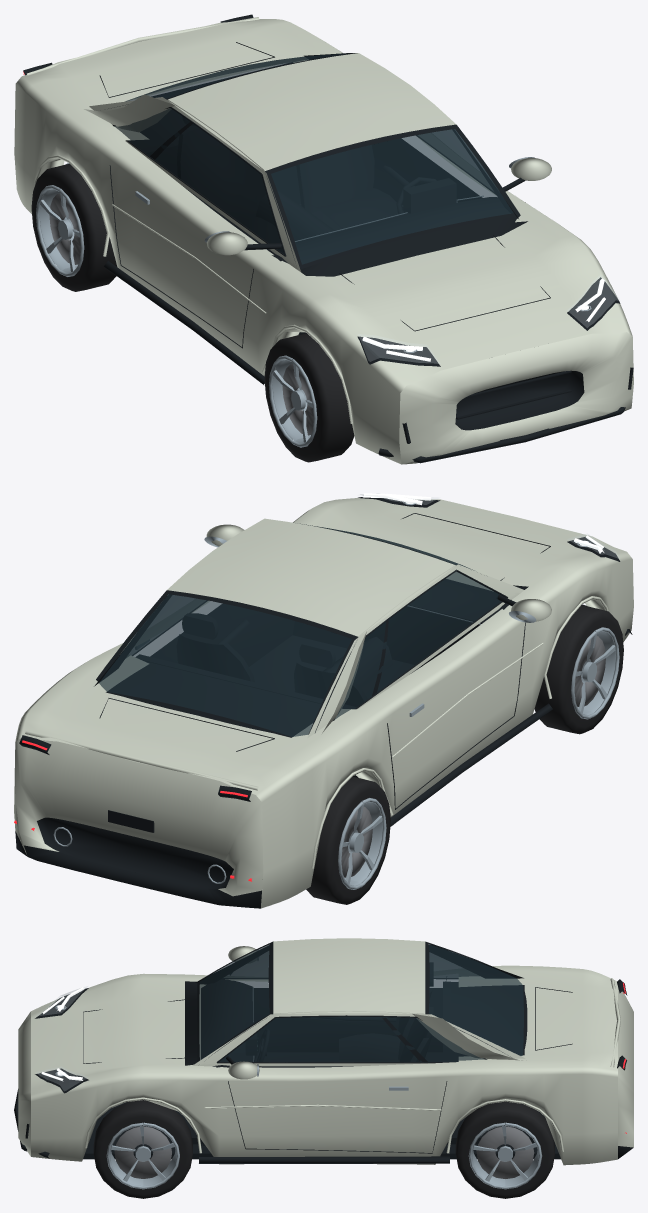
Rendered from aeris-lod1.glb.
3 renders of one model, top to bottom at view 1: azimuth 30°, elevation 25°; view 2: azimuth 150°, elevation 25°; view 3: azimuth 270°, elevation 25°, orthographic. The views are drawn at different scales.
Visible parts, largest first — view 1: sculpted-coachwork_merged, carbon-rear-valance_merged, panoramic-windscreen_merged, profiled-tire (×2), rim-barrel_merged (×2), headlamp-clear-lens_merged, ventilated-brake-rotor (×2), headlamp-projector-optic_merged; view 2: sculpted-coachwork_merged, carbon-rear-valance_merged, panoramic-windscreen_merged, profiled-tire (×2), rim-barrel_merged (×2), ventilated-brake-rotor (×2), door-release_merged, headlamp-projector-optic_merged; view 3: sculpted-coachwork_merged, carbon-rear-valance_merged, panoramic-windscreen_merged, profiled-tire (×2), ventilated-brake-rotor (×2), rim-barrel_merged (×2), headlamp-clear-lens_merged, headlamp-projector-optic_merged.
Part boxes in pixels (x1,y1,x2,y2): sculpted-coachwork_merged: [14, 17, 633, 464]; carbon-rear-valance_merged: [23, 14, 633, 463]; panoramic-windscreen_merged: [114, 53, 512, 264]; profiled-tire (×2): [31, 163, 354, 462]; rim-barrel_merged (×2): [36, 185, 317, 447]; headlamp-clear-lens_merged: [358, 275, 619, 363]; ventilated-brake-rotor (×2): [49, 193, 313, 435]; headlamp-projector-optic_merged: [362, 278, 605, 361]; sculpted-coachwork_merged: [14, 498, 633, 908]; carbon-rear-valance_merged: [15, 497, 632, 908]; panoramic-windscreen_merged: [99, 524, 501, 736]; profiled-tire (×2): [306, 605, 623, 904]; rim-barrel_merged (×2): [338, 627, 619, 889]; ventilated-brake-rotor (×2): [341, 636, 605, 877]; door-release_merged: [53, 499, 591, 883]; headlamp-projector-optic_merged: [363, 493, 604, 553]; sculpted-coachwork_merged: [18, 938, 633, 1165]; carbon-rear-valance_merged: [14, 941, 633, 1163]; panoramic-windscreen_merged: [199, 944, 523, 1061]; profiled-tire (×2): [93, 1100, 554, 1198]; ventilated-brake-rotor (×2): [114, 1126, 534, 1178]; rim-barrel_merged (×2): [106, 1122, 542, 1189]; headlamp-clear-lens_merged: [35, 986, 87, 1090]; headlamp-projector-optic_merged: [41, 987, 84, 1081].
Size of the model in its own units: 2.09 by 1.3 by 4.25.
